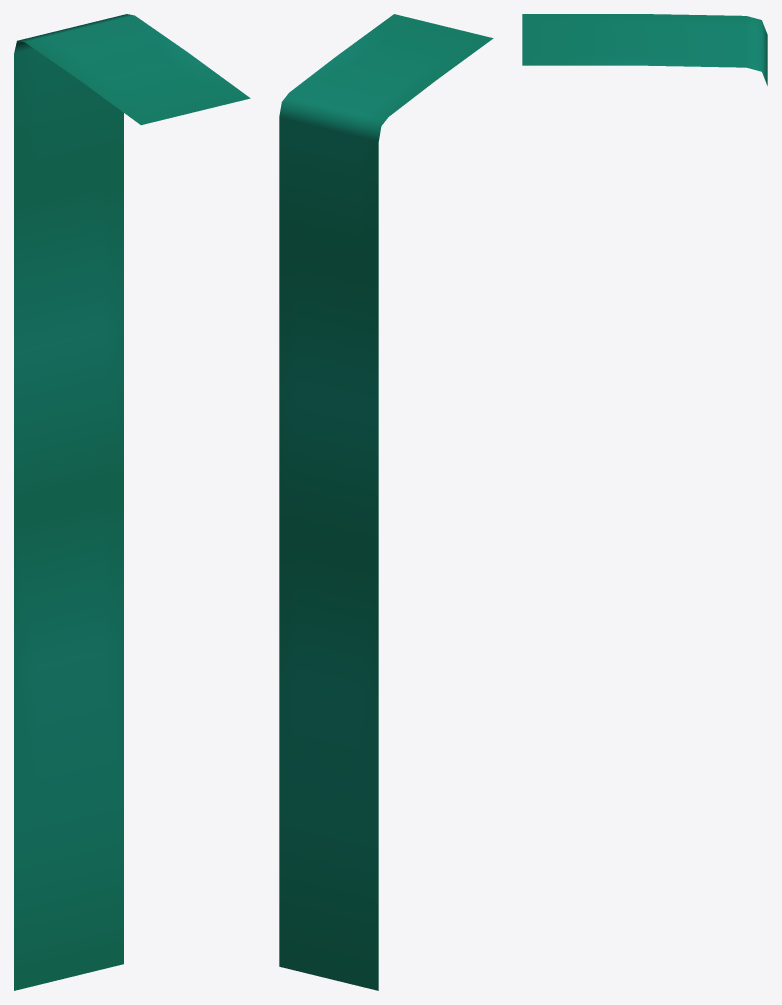
Rendered from CA_Waterfall_02.fbx.
The picture shows the model from 3 angles, left to right: view 1: azimuth 30°, elevation 25°; view 2: azimuth 150°, elevation 25°; view 3: azimuth 270°, elevation 25°; orthographic projection. The views are drawn at different scales.
Visible parts, largest first — view 1: CA_Waterfall_02; view 2: CA_Waterfall_02; view 3: CA_Waterfall_02.
Part boxes in pixels (left/top/right/bottom): CA_Waterfall_02: left=14, top=14, right=250, bottom=990; CA_Waterfall_02: left=279, top=14, right=493, bottom=990; CA_Waterfall_02: left=522, top=14, right=767, bottom=85.
Size of the model in its own units: 60 by 500 by 120.
